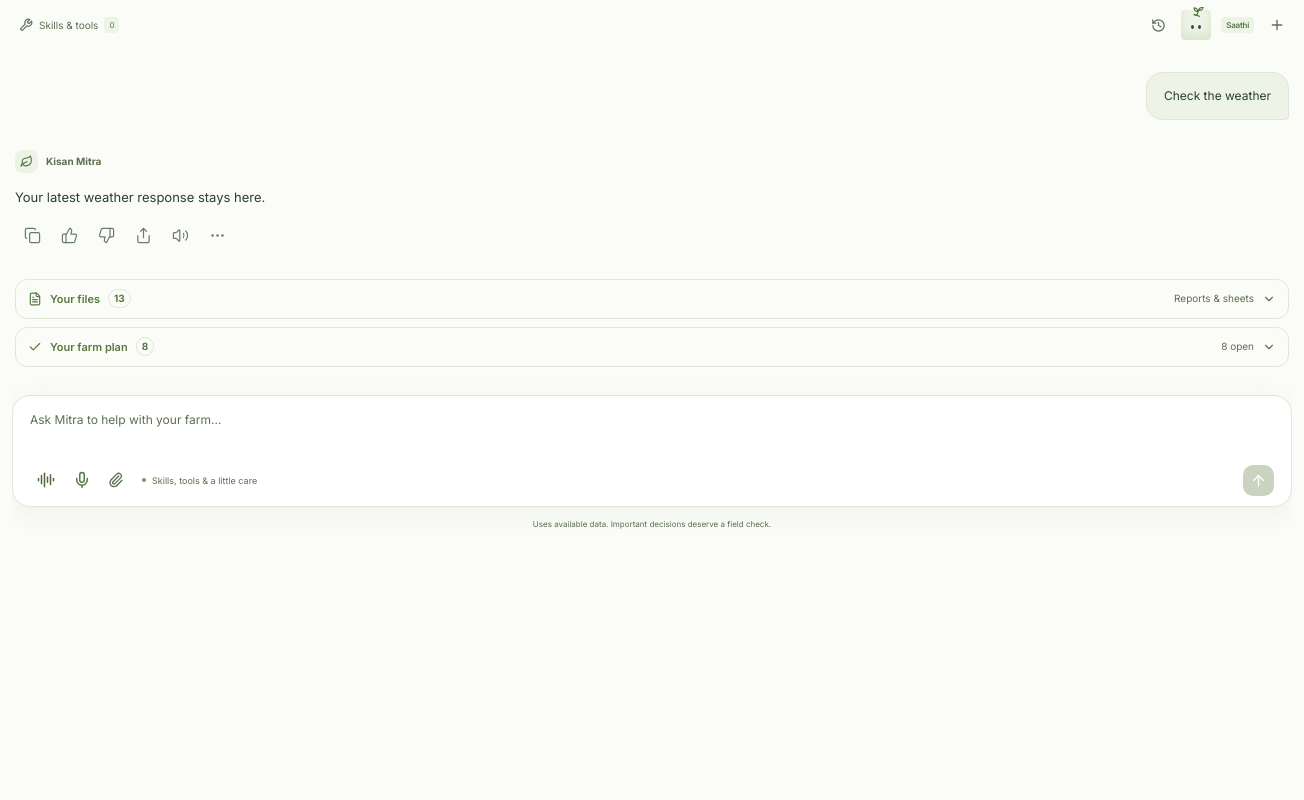
Scenario: keeps persistent libraries closed while retaining every saved item
This screenshot has width=1304, height=800.
Expected: the text "Your latest weather response stays here." is shown, [15,189,265,205]
Click the heading named "Your files, 13 saved files" at (75, 299), box [28,290,1276,308]
(page scrolled)
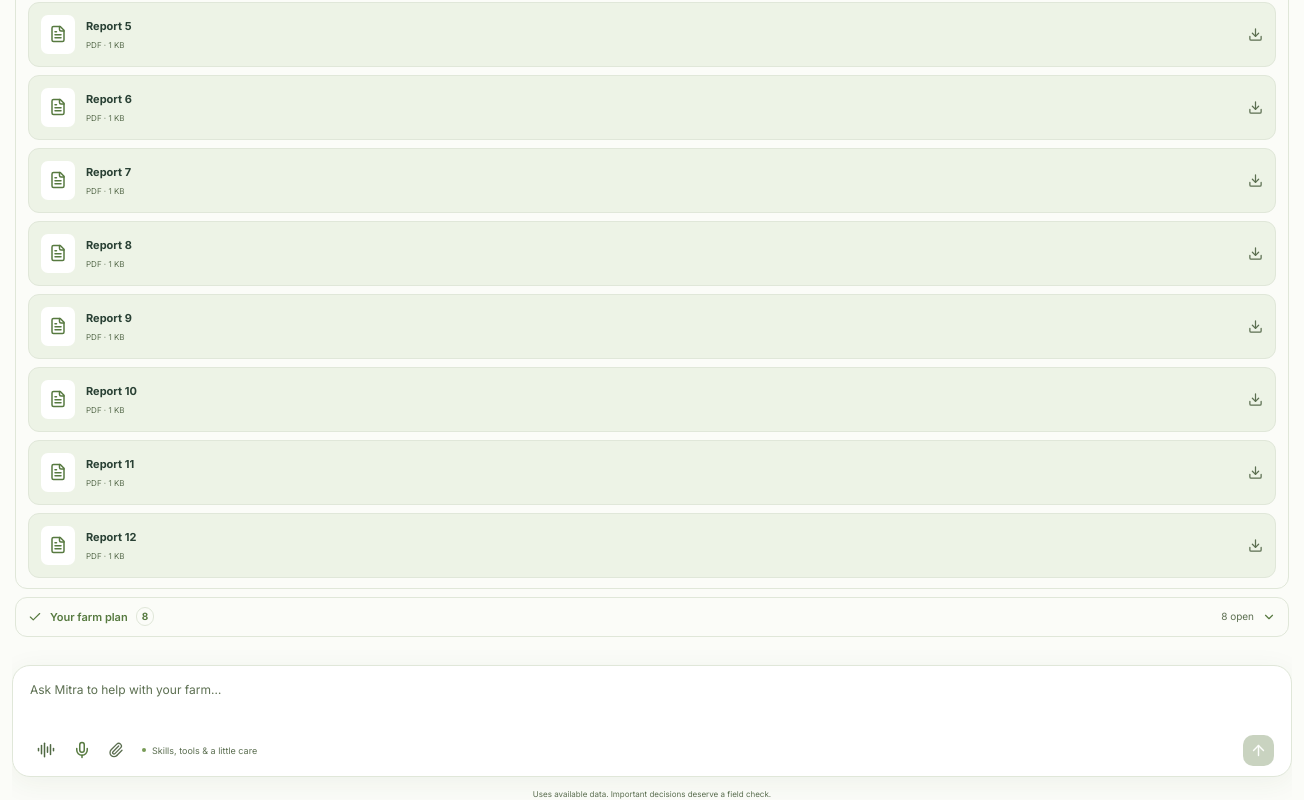
Now the button "Report 12 PDF · 1 KB" is shown, box [28,513,1276,578]
